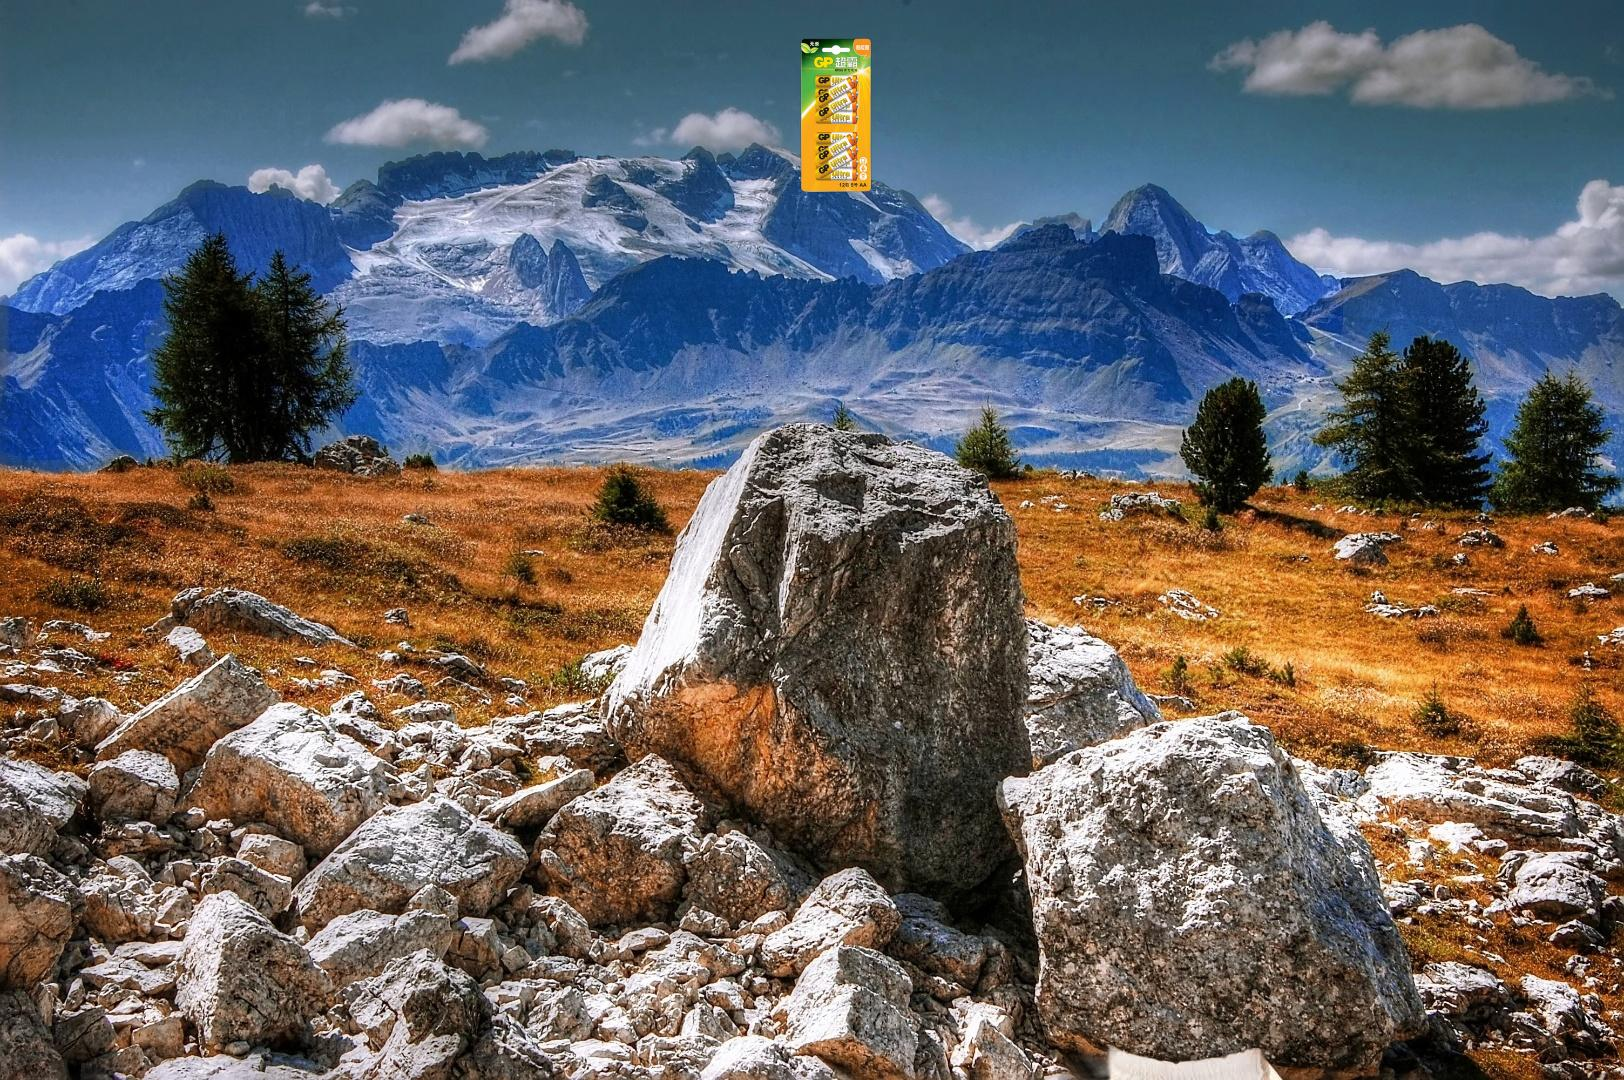battery: (757, 36, 914, 196)
trash: (1053, 1016, 1332, 1080)
